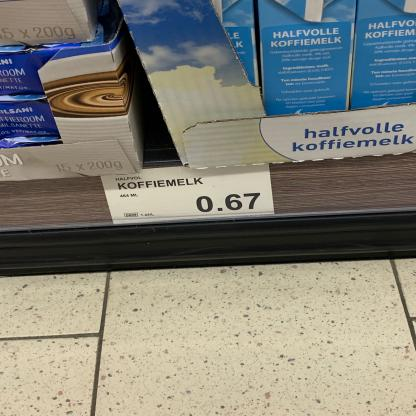prtg: (101, 165, 277, 226)
